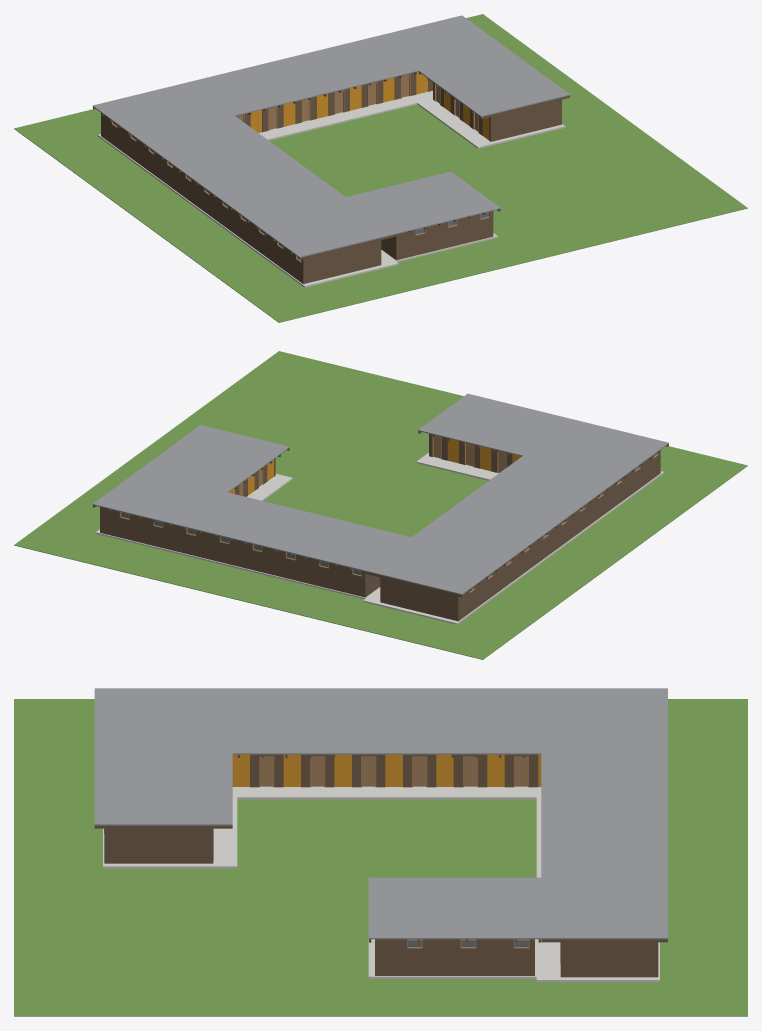
Rendered from alojamientos.glb.
3 renders of one model, top to bottom at view 1: azimuth 30°, elevation 25°; view 2: azimuth 150°, elevation 25°; view 3: azimuth 270°, elevation 25°, orthographic. The views are drawn at different scales.
Parts seen in each view (by area): view 1: Alojamientos; view 2: Alojamientos; view 3: Alojamientos.
Boxes of the visible parts, x1,y1,x2,y2 form: Alojamientos: (14,14,747,322); Alojamientos: (14,351,747,659); Alojamientos: (14,688,747,1016).
Bounding box in the file's own units: 46.84 × 3.1 × 45.85.
